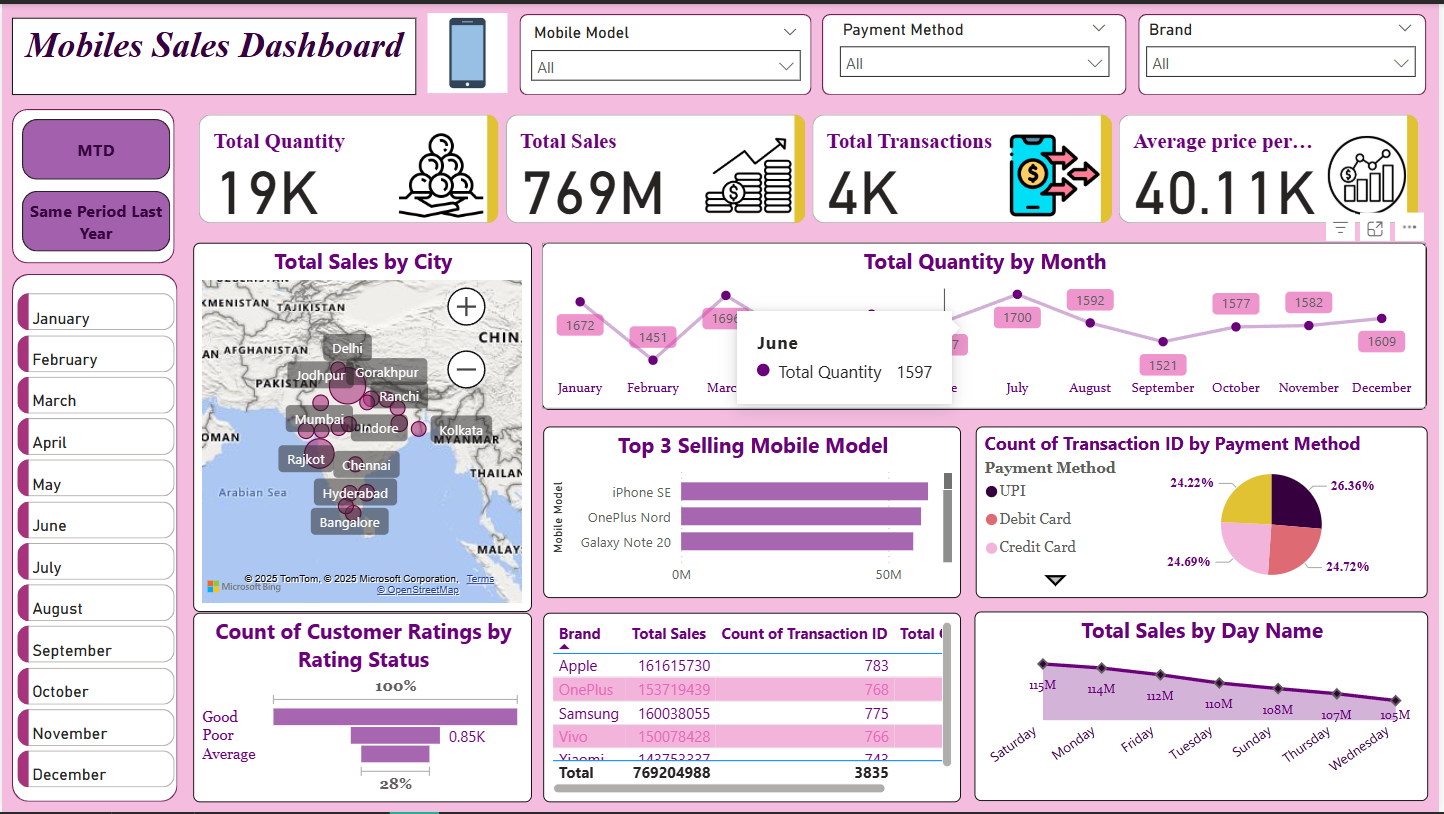

The dashboard page shown, as its layout file describes it:
{"tool":"powerbi","page":{"name":"Dashboard","canvas":[1280,720],"ordinal":0},"visuals":[{"type":"shape","box":[8.8,240,147.5,470],"z":0},{"type":"advancedSlicerVisual","fields":{"Values":["Date_Table.Date.Variation.Date Hierarchy.Month"]},"box":[8.8,252.5,150,457.5],"z":1000},{"type":"shape","box":[8.6,93.3,144.8,137.4],"z":2000},{"type":"shape","box":[461.4,8.6,260.1,72.4],"z":3000},{"type":"textbox","box":[8.8,12.5,360,68.8],"z":4000},{"type":"shape","box":[730.1,8.6,271.2,72.4],"z":5000},{"type":"shape","box":[1012.3,8.6,256.4,72.4],"z":6000},{"type":"slicer","fields":{"Values":["Sales_Data.Mobile Model"]},"box":[461.4,12.3,260.1,66.3],"z":7000},{"type":"slicer","fields":{"Values":["Sales_Data.Payment Method"]},"box":[736.2,8.6,260.1,66.3],"z":8000},{"type":"slicer","fields":{"Values":["Sales_Data.Brand"]},"box":[1008.6,8.6,260.1,66.3],"z":9000},{"type":"map","fields":{"Category":["Sales_Data.City"],"Size":["Sales_Data.Total Sales"]},"box":[170,212.5,301.2,328.8],"z":10000},{"type":"cardVisual","fields":{"Data":["Sales_Data.Total Quantity","Sales_Data.Total Sales","Sales_Data.Total Transactions","Sales_Data.Average price per unit"]},"box":[170,93.8,1098.8,107.5],"z":11000},{"type":"image","box":[357.5,3.8,113.8,81.2],"z":12000},{"type":"lineChart","fields":{"Y":["Sales_Data.Total Quantity"],"Category":["Date_Table.Date.Variation.Date Hierarchy.Month"]},"box":[480.4,212.1,787.7,148.6],"z":13000},{"type":"pieChart","fields":{"Y":["CountNonNull(Sales_Data.Transaction ID)"],"Category":["Sales_Data.Payment Method"]},"box":[867.1,376.6,402.5,152.9],"z":14000},{"type":"funnel","fields":{"Category":["Sales_Data.Rating Status"],"Y":["CountNonNull(Sales_Data.Customer Ratings)"]},"box":[170.2,542.5,301.5,168.8],"z":15000},{"type":"clusteredBarChart","title":"Top 3 Selling Mobile Model","fields":{"Y":["Sales_Data.Total Sales"],"Category":["Sales_Data.Mobile Model"]},"box":[481.9,376.6,372.2,152.9],"z":16000},{"type":"lineChart","fields":{"Y":["Sales_Data.Total Sales"],"Category":["Date_Table.Day Name"]},"box":[865.7,541,404,168.8],"z":17000},{"type":"tableEx","fields":{"Values":["Sales_Data.Brand","Sales_Data.Total Sales","CountNonNull(Sales_Data.Transaction ID)","Sales_Data.Total Quantity"]},"box":[482,542,372,169],"z":18000},{"type":"pageNavigator","box":[17.3,102.4,132.7,118.3],"z":19000}]}

Visuals, with their boxes in screenshot pixels (x1, y1, x2, y2), scaled from the page's 1280x720 canvas onto the 1444x814 screenshot:
shape: (left=10, top=271, right=176, bottom=803)
advancedSlicerVisual - Date_Table.Date.Variation.Date Hierarchy.Month: (left=10, top=285, right=179, bottom=803)
shape: (left=10, top=105, right=173, bottom=261)
shape: (left=521, top=10, right=814, bottom=92)
textbox: (left=10, top=14, right=416, bottom=92)
shape: (left=824, top=10, right=1130, bottom=92)
shape: (left=1142, top=10, right=1431, bottom=92)
slicer - Sales_Data.Mobile Model: (left=521, top=14, right=814, bottom=89)
slicer - Sales_Data.Payment Method: (left=831, top=10, right=1124, bottom=85)
slicer - Sales_Data.Brand: (left=1138, top=10, right=1431, bottom=85)
map - Sales_Data.City x Sales_Data.Total Sales: (left=192, top=240, right=532, bottom=612)
cardVisual - Sales_Data.Total Quantity x Sales_Data.Total Sales: (left=192, top=106, right=1431, bottom=228)
image: (left=403, top=4, right=532, bottom=96)
lineChart - Sales_Data.Total Quantity x Date_Table.Date.Variation.Date Hierarchy.Month: (left=542, top=240, right=1431, bottom=408)
pieChart - CountNonNull(Sales_Data.Transaction ID) x Sales_Data.Payment Method: (left=978, top=426, right=1432, bottom=599)
funnel - Sales_Data.Rating Status x CountNonNull(Sales_Data.Customer Ratings): (left=192, top=613, right=532, bottom=804)
"Top 3 Selling Mobile Model" clusteredBarChart: (left=544, top=426, right=964, bottom=599)
lineChart - Sales_Data.Total Sales x Date_Table.Day Name: (left=977, top=612, right=1432, bottom=802)
tableEx - Sales_Data.Brand x Sales_Data.Total Sales: (left=544, top=613, right=963, bottom=804)
pageNavigator: (left=20, top=116, right=169, bottom=250)
